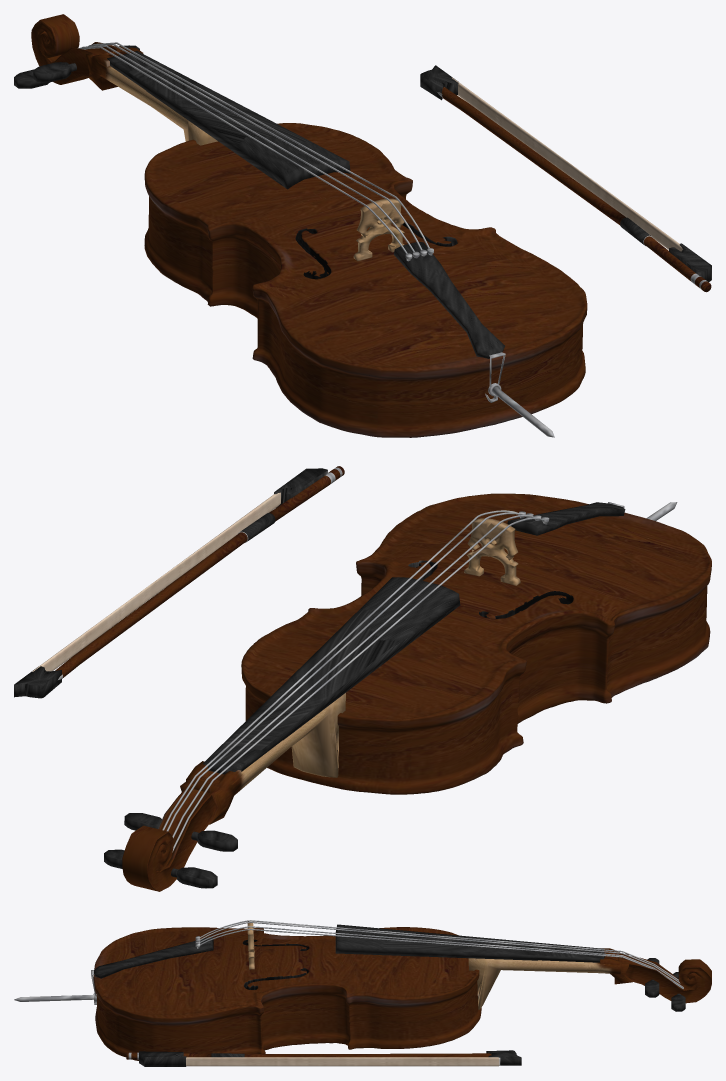
The model's file is vintage_cello.glb.
3 views of the same model, one above another, from view 1: azimuth 30°, elevation 25°; view 2: azimuth 150°, elevation 25°; view 3: azimuth 270°, elevation 25° (orthographic). The views are drawn at different scales.
Parts seen in each view (by area): view 1: g (×2); view 2: g (×2); view 3: g (×2).
Part boxes in pixels (left/top/right/bottom): g (×2): left=14, top=14, right=711, bottom=437; g (×2): left=14, top=466, right=711, bottom=891; g (×2): left=14, top=920, right=711, bottom=1066.
Bounding box in the file's own units: 0.8794 × 0.3159 × 2.
12 materials, 12 textured.
